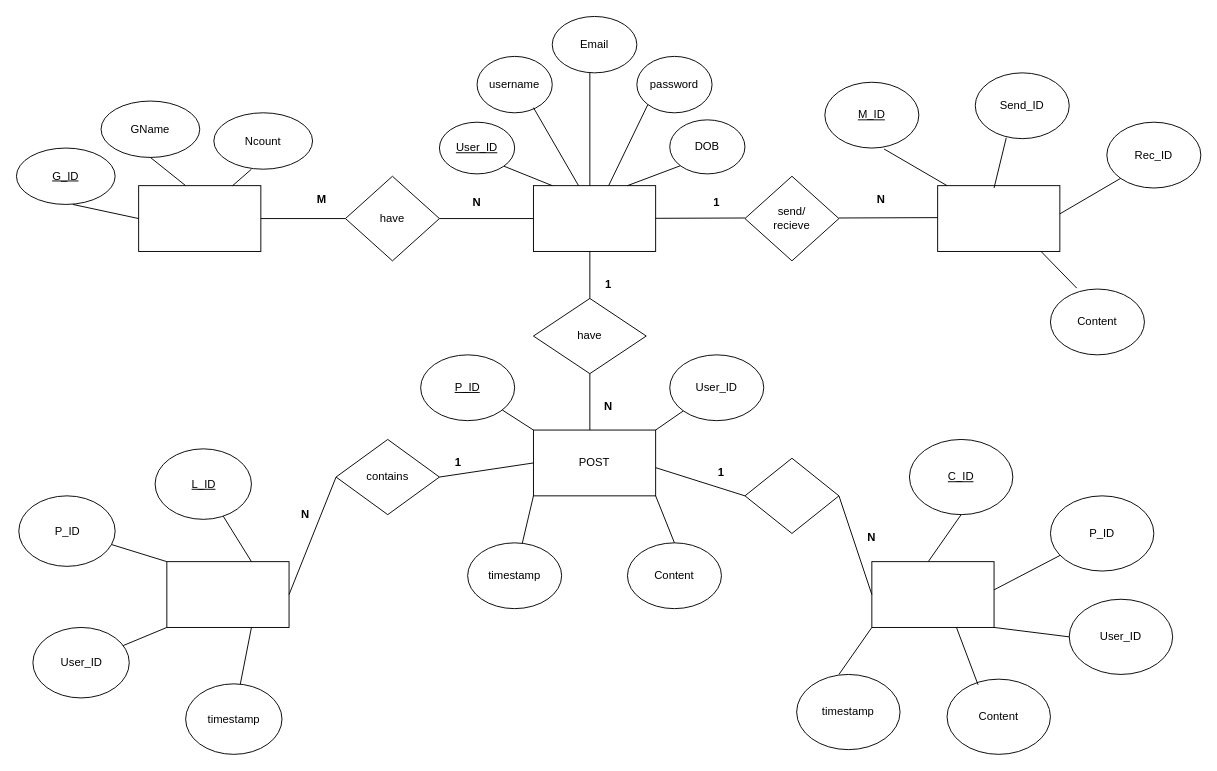
Some shapes in this 1217 by 771 pixel diagram are drawn without their labels. The centre of each missing label's shape, as x and y in pixels:
"COMMENTS" belongs at [932,594].
"GROUPS" belongs at [199,218].
"has" belongs at [791,495].
"LIKES" belongs at [227,594].
"MESSAGE" belongs at [998,218].
"USER" belongs at [594,218].
